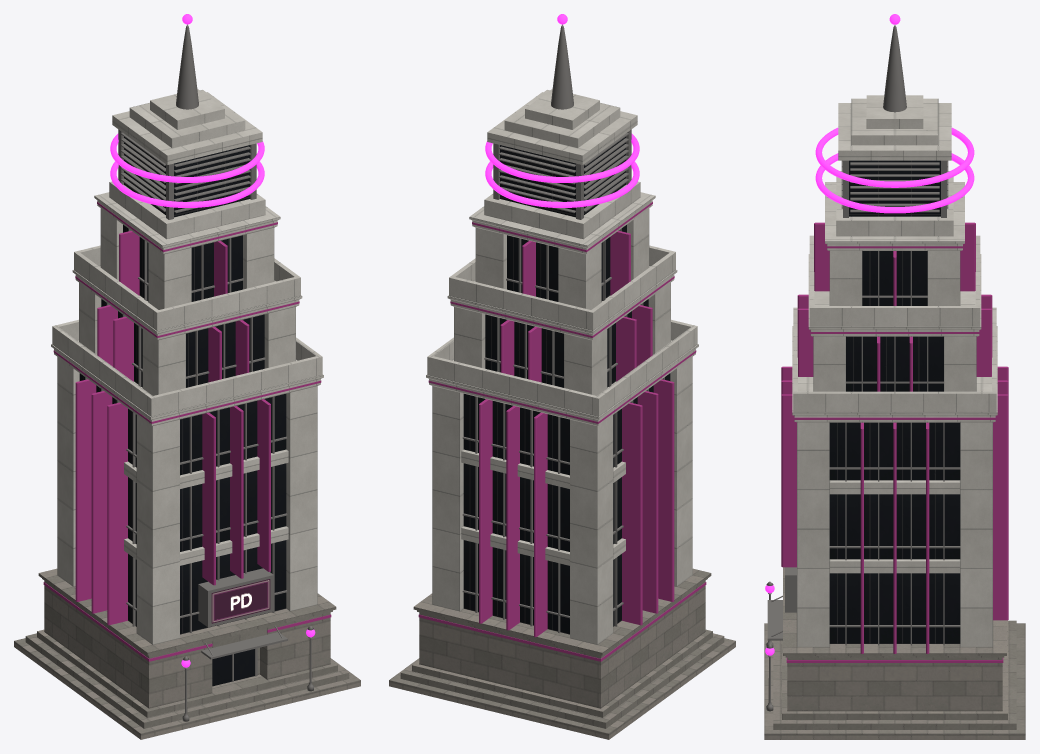
Rendered from s35-parkinsons-dao.glb.
The picture shows the model from 3 angles, left to right: view 1: azimuth 30°, elevation 25°; view 2: azimuth 150°, elevation 25°; view 3: azimuth 270°, elevation 25°; orthographic projection. The views are drawn at different scales.
Visible parts, largest first — view 1: Landmark · Parkinsons DAO (Series 35); view 2: Landmark · Parkinsons DAO (Series 35); view 3: Landmark · Parkinsons DAO (Series 35).
Boxes of the visible parts, x1,y1,x2,y2 form: Landmark · Parkinsons DAO (Series 35): (14, 14, 360, 739); Landmark · Parkinsons DAO (Series 35): (389, 14, 735, 739); Landmark · Parkinsons DAO (Series 35): (764, 14, 1025, 739).
Size of the model in its own units: 12 by 34 by 12.
Materials: 7 (4 with a texture image).
